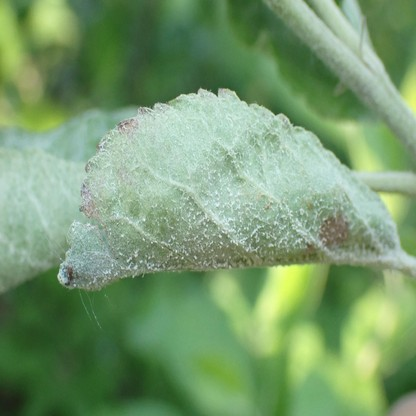powder: (60, 89, 402, 288), (0, 105, 138, 295)
